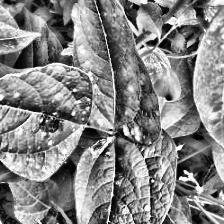Bean Rust: (65, 0, 162, 141), (0, 62, 89, 188), (74, 131, 175, 224)
